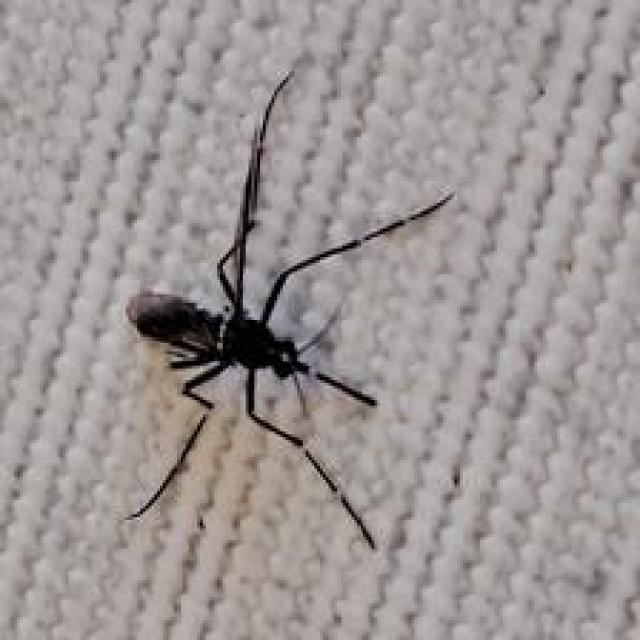Aedes albopictus: (123, 67, 457, 553)
